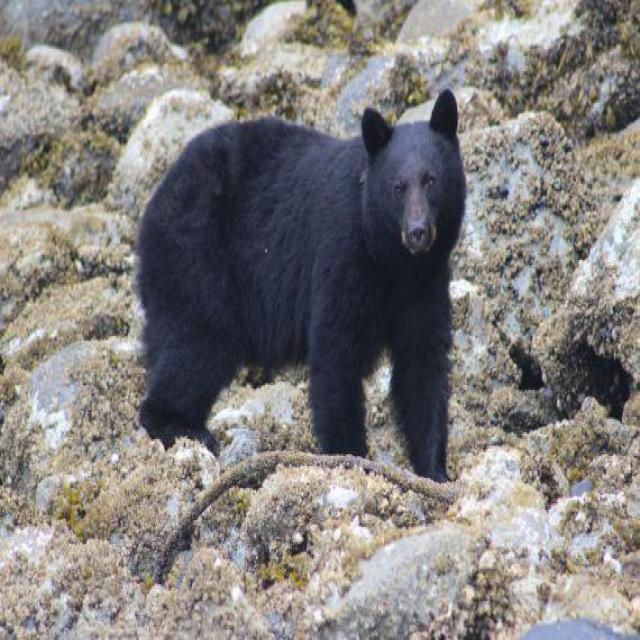Bear: (134, 91, 469, 486)
